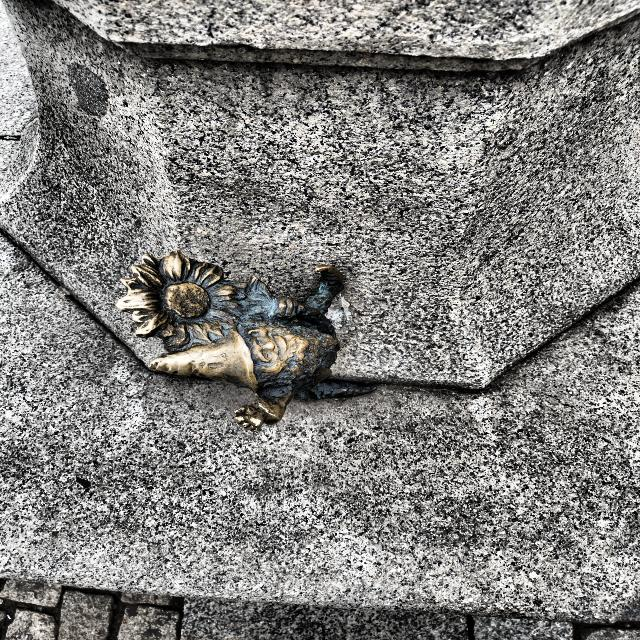Zyczliwek: (117, 250, 372, 430)
